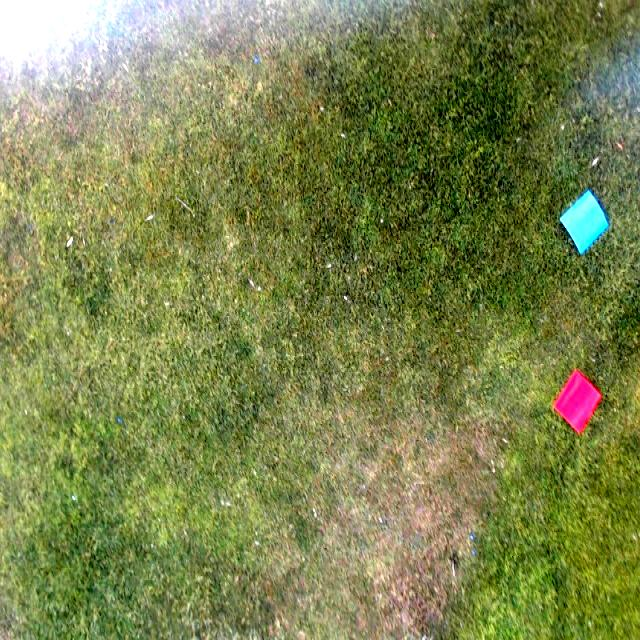blue_square: (558, 190, 608, 254)
red_square: (554, 367, 601, 434)
